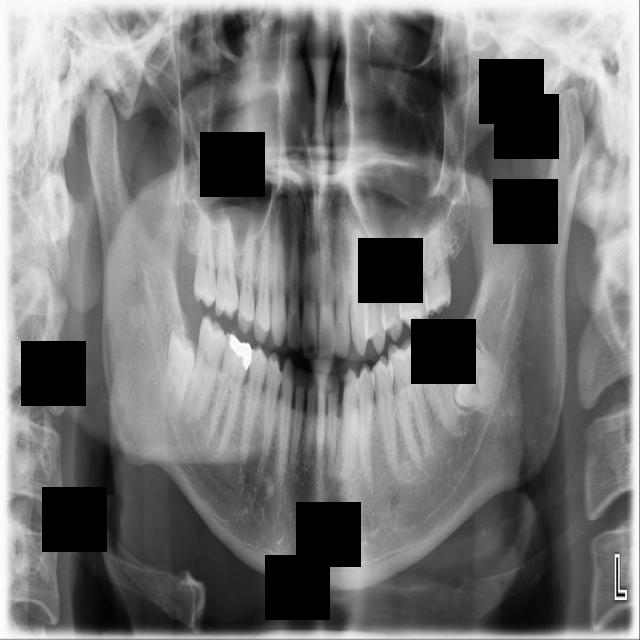52: (219, 327, 255, 383)
73: (598, 556, 604, 564)
BioHorizons Implant: (424, 209, 453, 315)
Biomet 3i Implant: (448, 341, 510, 412)
Blue Sky Bio Implant: (409, 316, 461, 438)
Caries: (194, 209, 216, 309)
Implant: (179, 313, 232, 424)
Keystone Dental Implant: (160, 325, 198, 415)
